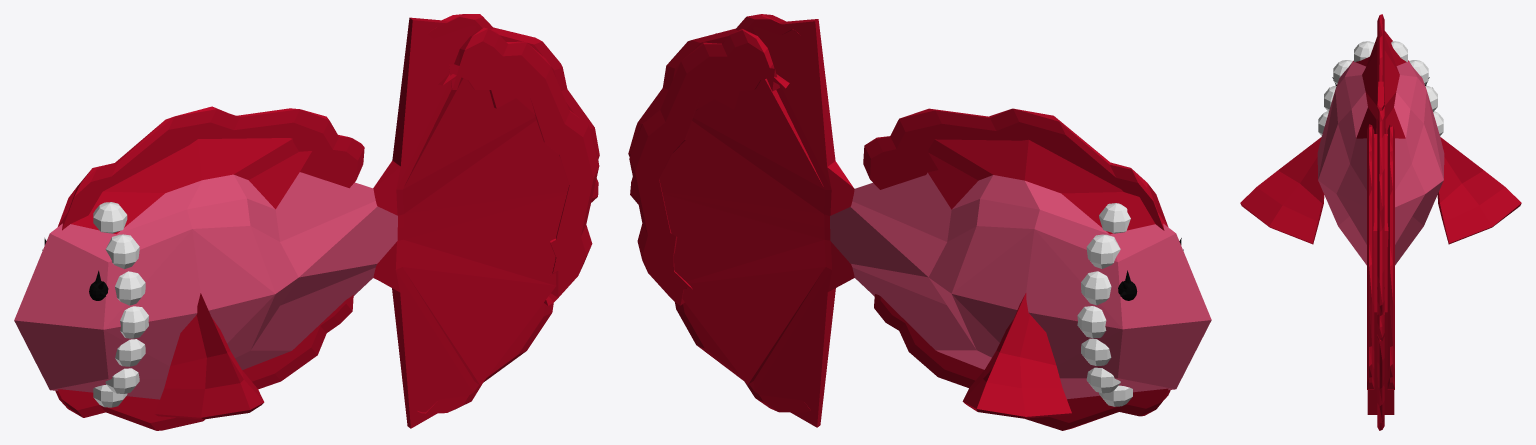
File: ex_ani.glb
3 renders of one model, left to right at view 1: azimuth 30°, elevation 25°; view 2: azimuth 150°, elevation 25°; view 3: azimuth 270°, elevation 25°, orthographic. The views are drawn at different scales.
Visible parts, largest first — view 1: BézierCurve.001, Cone.003; view 2: BézierCurve.001, Cone; view 3: BézierCurve.001, Cone, Cone.003.
Boxes of the visible parts, <box> form: BézierCurve.001: <box>14,14,599,430</box>; Cone.003: <box>154,293,264,419</box>; BézierCurve.001: <box>628,14,1211,430</box>; Cone: <box>962,293,1071,418</box>; BézierCurve.001: <box>1317,14,1444,430</box>; Cone: <box>1437,137,1521,244</box>; Cone.003: <box>1240,137,1324,244</box>.
Size of the model in its own units: 3.77 by 2.51 by 1.92.
